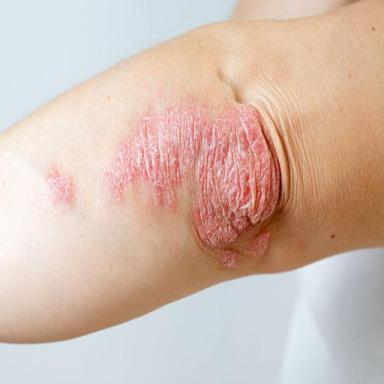Psoriasis: (103, 104, 281, 269), (47, 163, 75, 206), (249, 229, 270, 257)
